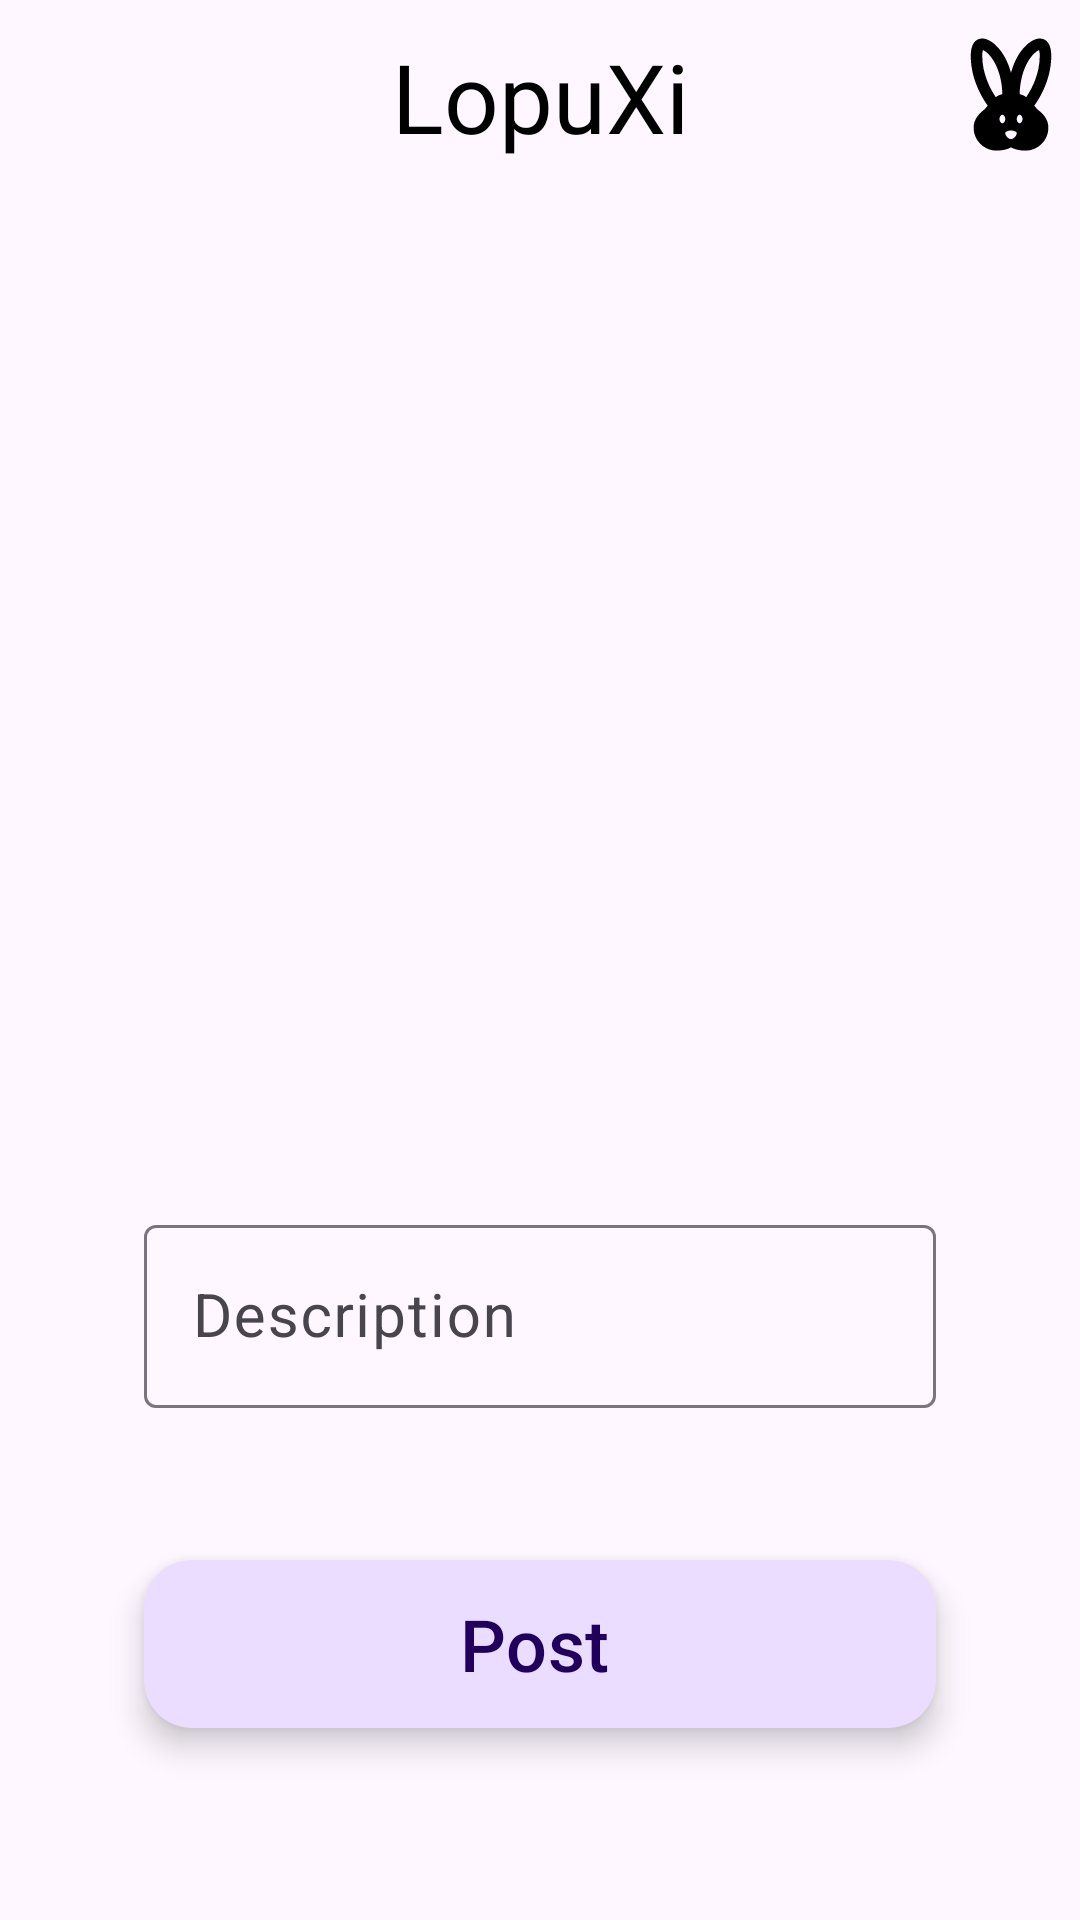

Icon bounding boxes for this 1080 × 1920 phone screenshot, format (x1, y1, x2, y2):
bunny: (970, 38, 1052, 151)
